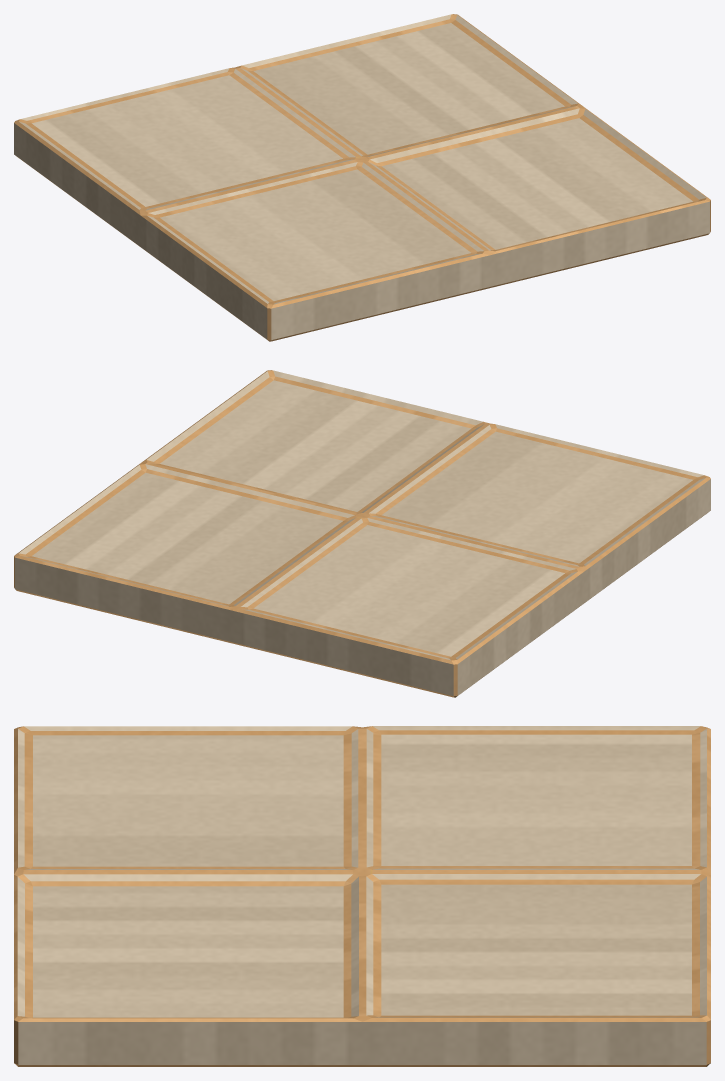
File: sm_terrain_tile_stone.glb
The picture shows the model from 3 angles, top to bottom: view 1: azimuth 30°, elevation 25°; view 2: azimuth 150°, elevation 25°; view 3: azimuth 270°, elevation 25°; orthographic projection. The views are drawn at different scales.
Visible parts, largest first — view 1: sm_terrain_tile_stone; view 2: sm_terrain_tile_stone; view 3: sm_terrain_tile_stone.
Boxes of the visible parts, <box> form: sm_terrain_tile_stone: <box>14,14,710,341</box>; sm_terrain_tile_stone: <box>14,370,710,697</box>; sm_terrain_tile_stone: <box>14,726,710,1066</box>.
Size of the model in its own units: 1 by 0.0786 by 1.
Materials: 1 (1 with a texture image).
